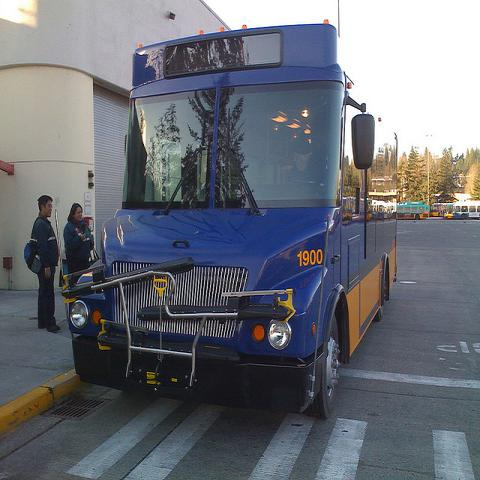bus: (54, 19, 398, 423), (398, 201, 430, 220), (431, 203, 454, 219), (453, 203, 469, 220), (468, 200, 479, 221)
